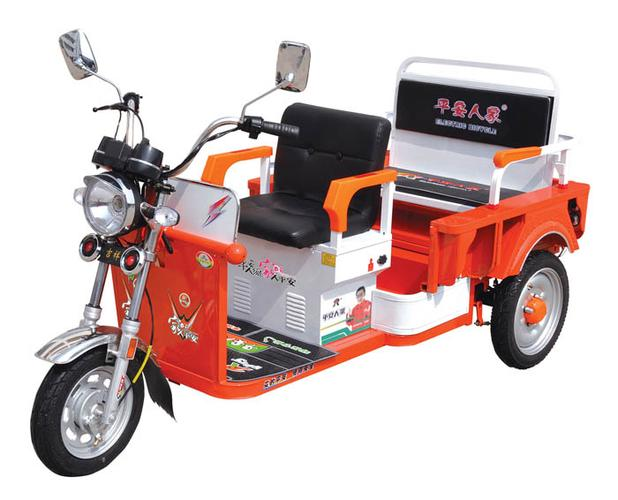empty: (19, 20, 584, 474)
